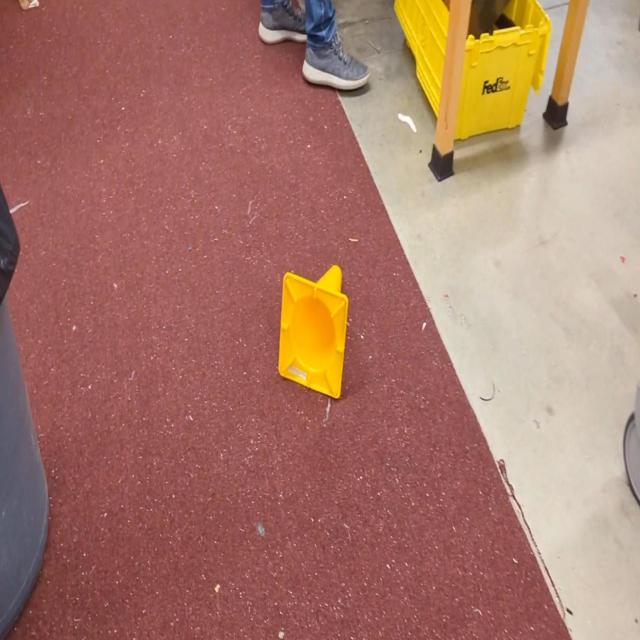frc_cone: (278, 267, 349, 400)
